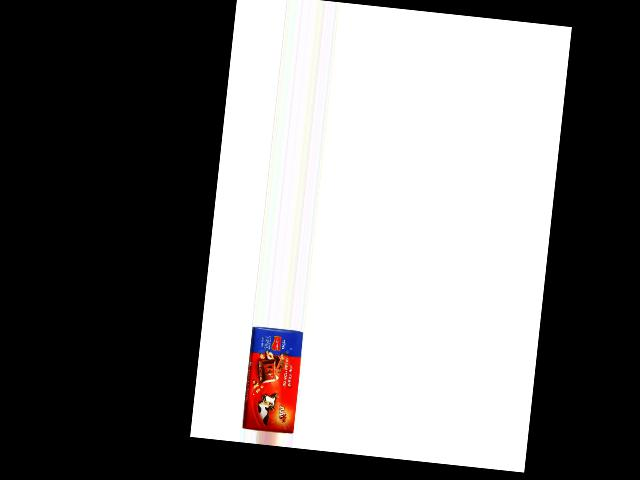chocolate: (241, 326, 303, 434)
